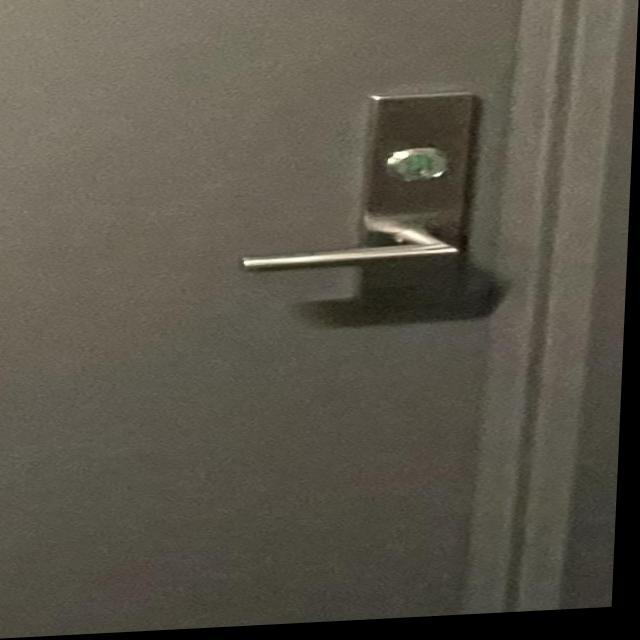door_handle: (224, 215, 497, 292)
